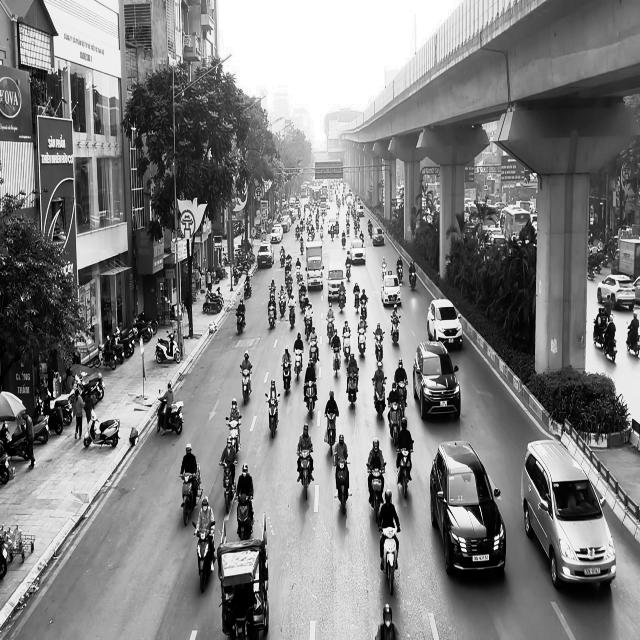car: (520, 438, 616, 590), (429, 440, 506, 576), (412, 340, 461, 420), (426, 298, 463, 350), (381, 274, 401, 306)
motorbike: (192, 520, 215, 592), (378, 526, 400, 595), (84, 411, 120, 448), (156, 391, 184, 434), (366, 462, 386, 522), (179, 469, 200, 526), (396, 443, 413, 499), (219, 460, 236, 514), (155, 329, 181, 364), (334, 458, 350, 514), (236, 493, 254, 540), (297, 449, 313, 500), (264, 392, 280, 438), (371, 376, 387, 420), (226, 416, 242, 452), (325, 411, 338, 455), (303, 379, 317, 419), (346, 367, 358, 409), (239, 366, 252, 404), (626, 322, 640, 357), (281, 362, 291, 394), (293, 349, 303, 381), (390, 316, 400, 346), (236, 307, 246, 335)
